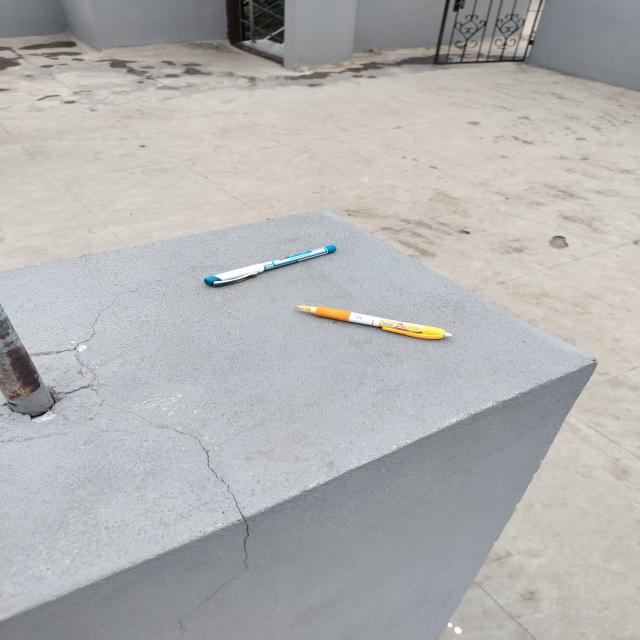plastic: (294, 299, 454, 349), (200, 241, 341, 290)
